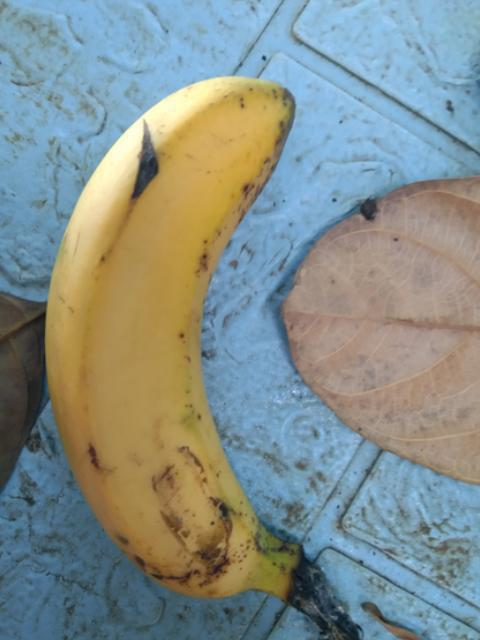ripe: (23, 65, 323, 617)
